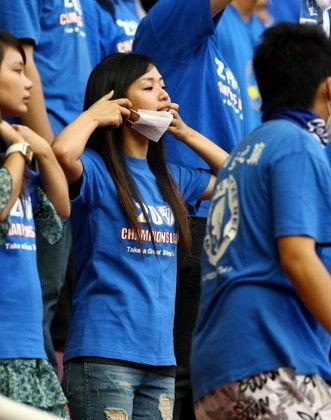NONE: (1, 65, 37, 116)
WRONG: (117, 76, 180, 139)
